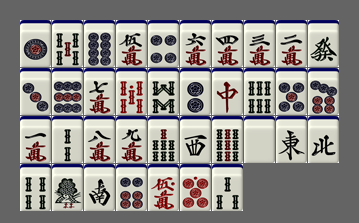0m: (148, 164, 179, 211)
0p: (180, 164, 211, 211)
0s: (116, 68, 147, 115)
1m: (20, 116, 51, 163)
1p: (20, 20, 51, 67)
1s: (52, 164, 83, 211)
1z: (276, 116, 307, 163)
2m: (276, 20, 307, 67)
2p: (180, 68, 211, 115)
2s: (52, 116, 83, 163)
2z: (84, 164, 115, 211)
3m: (244, 20, 275, 67)
3p: (20, 68, 51, 115)
3s: (212, 164, 243, 211)
3z: (180, 116, 211, 163)
4m: (212, 20, 243, 67)
4p: (148, 20, 179, 67)
4s: (20, 164, 51, 211)
4z: (308, 116, 339, 163)
5m: (116, 20, 147, 67)
5p: (276, 68, 307, 115)
5s: (52, 20, 83, 67)
5z: (244, 116, 275, 163)
6m: (180, 20, 211, 67)
6p: (116, 164, 147, 211)
6s: (244, 68, 275, 115)
6z: (308, 20, 339, 67)
7m: (84, 68, 115, 115)
7p: (308, 68, 339, 115)
7s: (148, 116, 179, 163)
7z: (212, 68, 243, 115)
8m: (84, 116, 115, 163)
8p: (84, 20, 115, 67)
8s: (148, 68, 179, 115)
9m: (116, 116, 147, 163)
9p: (52, 68, 83, 115)
9s: (212, 116, 243, 163)
